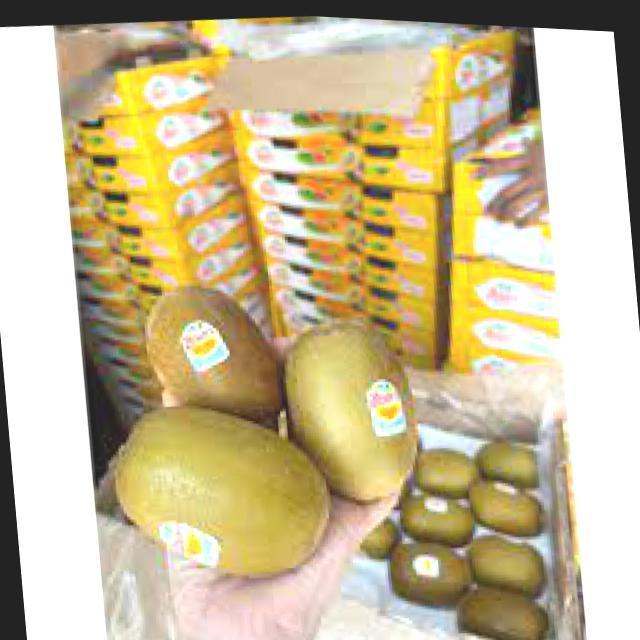kiwi: (102, 387, 335, 588), (282, 310, 425, 508), (139, 276, 279, 438), (383, 531, 471, 604), (455, 572, 549, 640)
